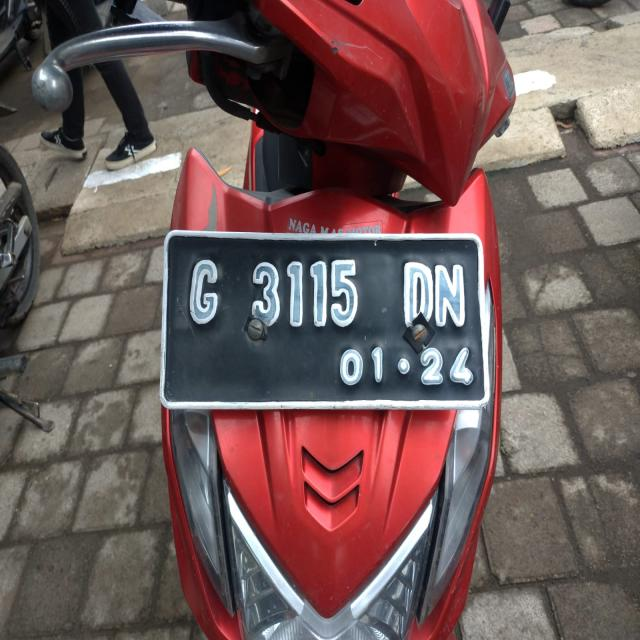plate: (160, 231, 487, 409)
